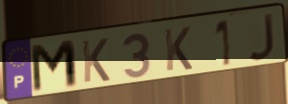1: (213, 18, 232, 68)
3: (121, 30, 153, 80)
J: (246, 11, 277, 63)
K: (79, 36, 112, 85), (162, 25, 194, 73)
M: (28, 38, 81, 96)
